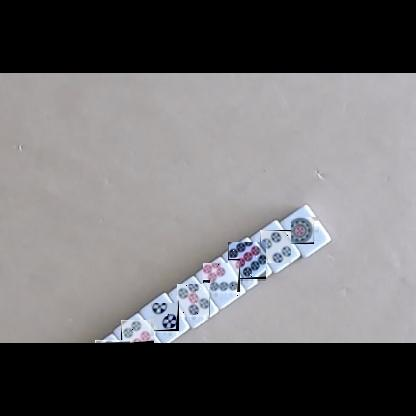1p: (292, 217, 319, 244)
2p: (151, 304, 179, 336)
4p: (260, 230, 291, 263)
5p: (177, 285, 210, 320)
6p: (121, 320, 154, 343)
7p: (203, 264, 240, 297)
8p: (95, 340, 130, 343)
9p: (228, 243, 266, 284)
